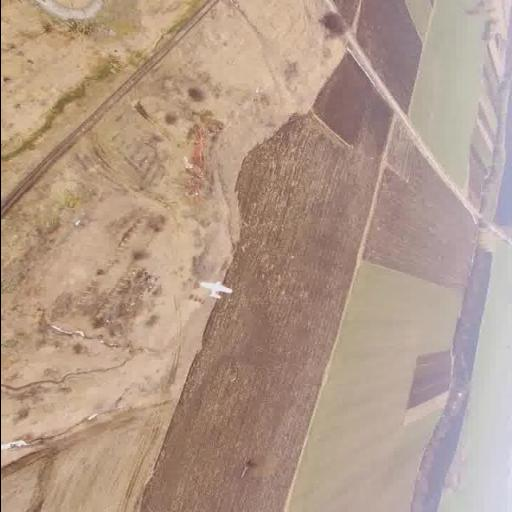uav: (190, 266, 234, 304)
